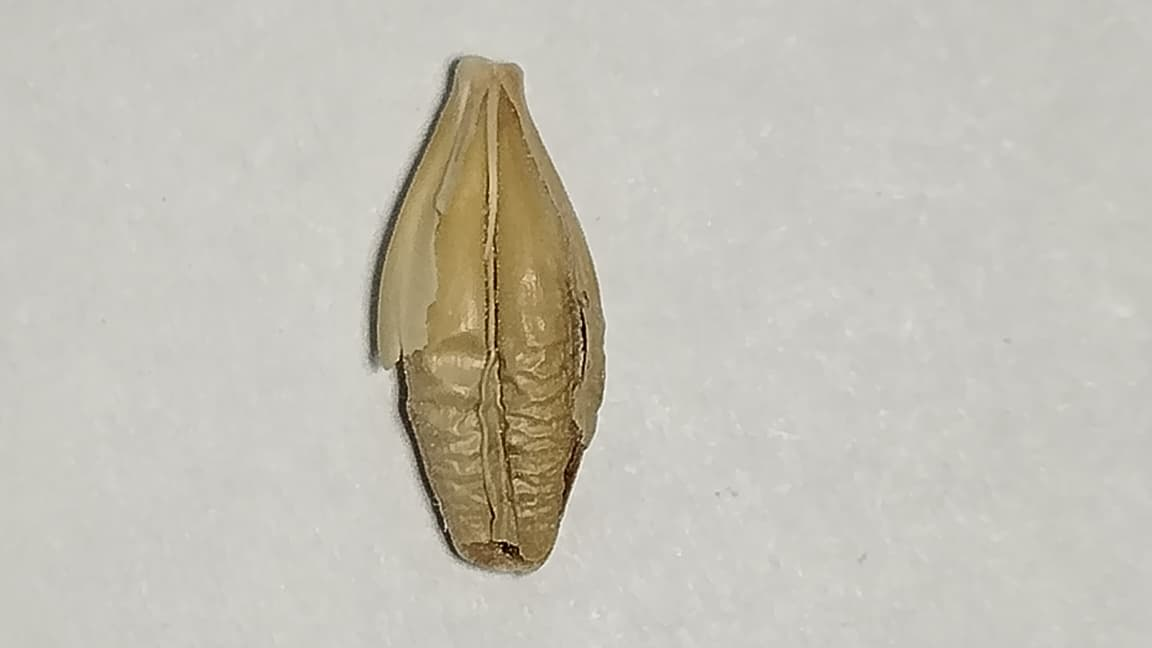damage: (379, 57, 603, 570)
shriveledseed: (406, 334, 589, 576)
staindamage: (567, 300, 604, 452)
